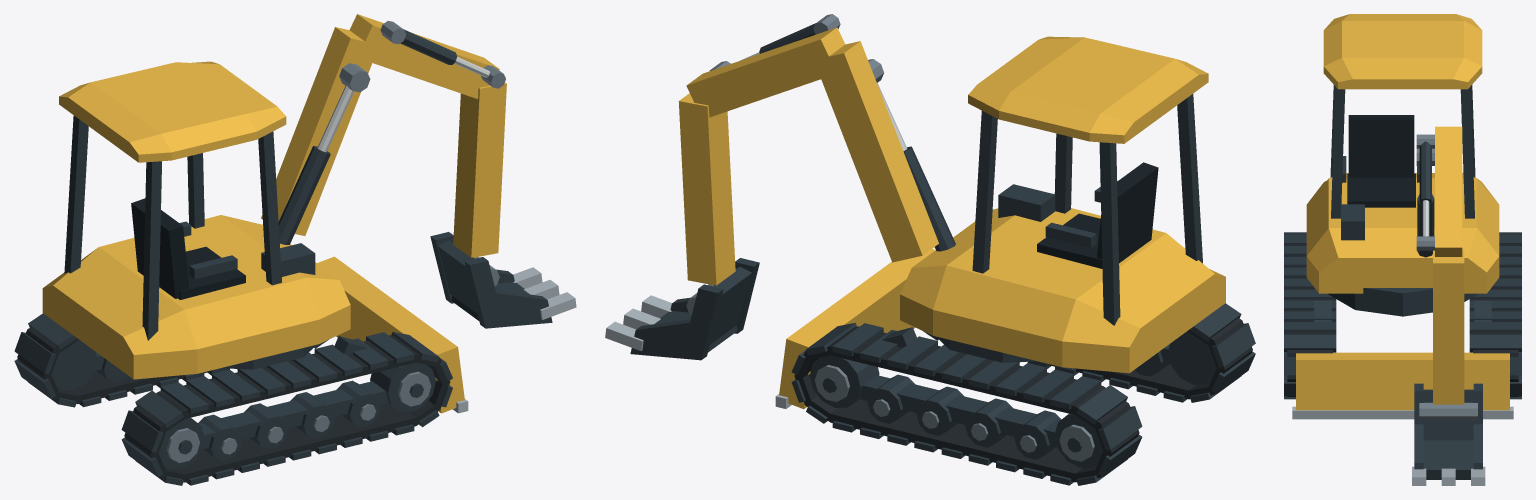
The model's file is b07_mini_excavator_open_canopy.glb.
3 renders of one model, left to right at view 1: azimuth 30°, elevation 25°; view 2: azimuth 150°, elevation 25°; view 3: azimuth 270°, elevation 25°, orthographic. The views are drawn at different scales.
Parts seen in each view (by area): view 1: b07_mini_excavator_open_canopy; view 2: b07_mini_excavator_open_canopy; view 3: b07_mini_excavator_open_canopy.
Part boxes in pixels (left/top/right/bottom): b07_mini_excavator_open_canopy: left=14, top=14, right=576, bottom=485; b07_mini_excavator_open_canopy: left=605, top=14, right=1255, bottom=485; b07_mini_excavator_open_canopy: left=1284, top=14, right=1521, bottom=485.
Bounding box in the file's own units: 3.49 × 2.22 × 1.66.
